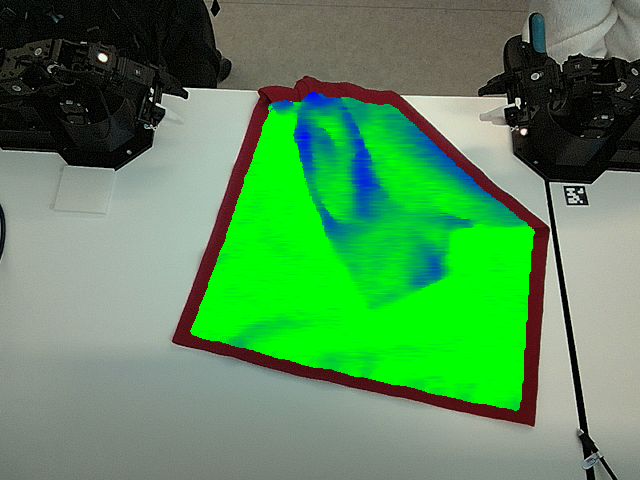V: (345, 269, 405, 318)
